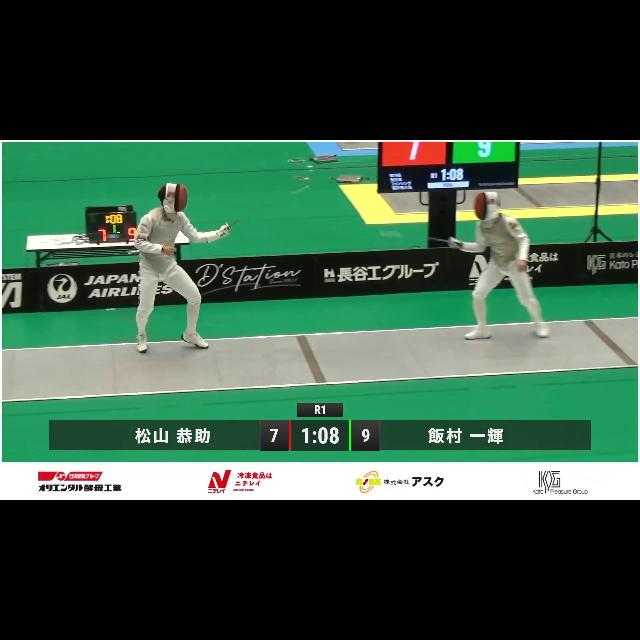blade: (221, 182, 311, 235), (378, 224, 460, 248)
